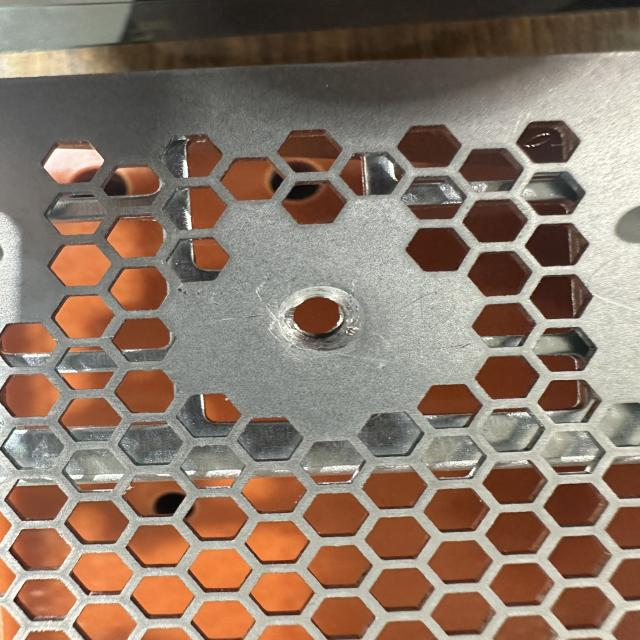Missing screw: (271, 280, 378, 361)
